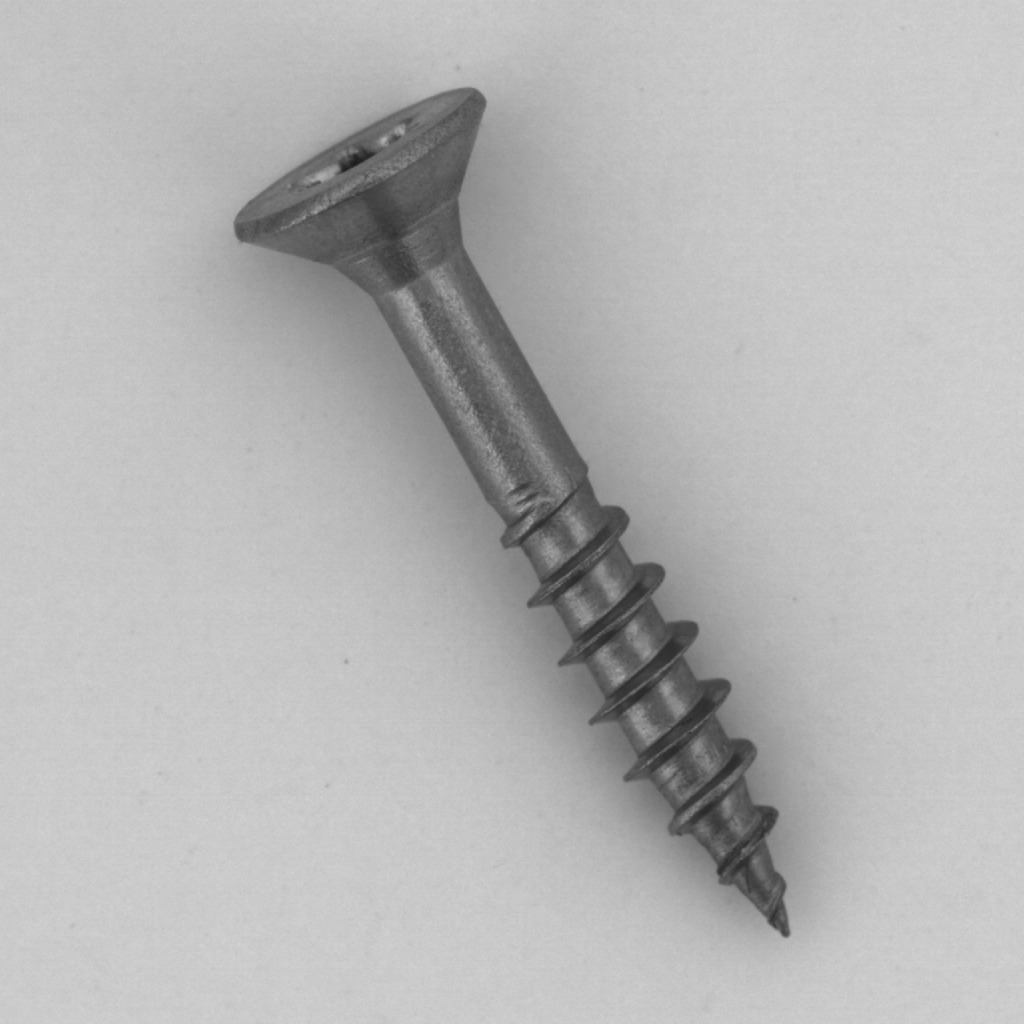good: (215, 73, 845, 960)
